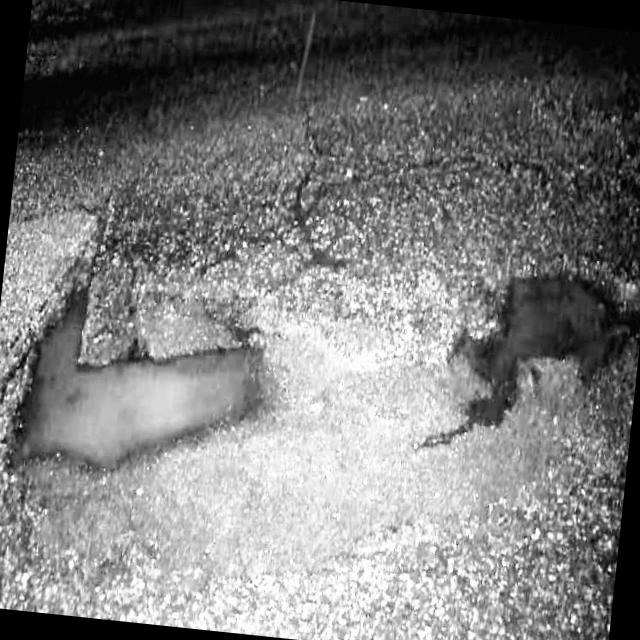Pothole: (1, 270, 278, 500), (478, 241, 630, 405)
